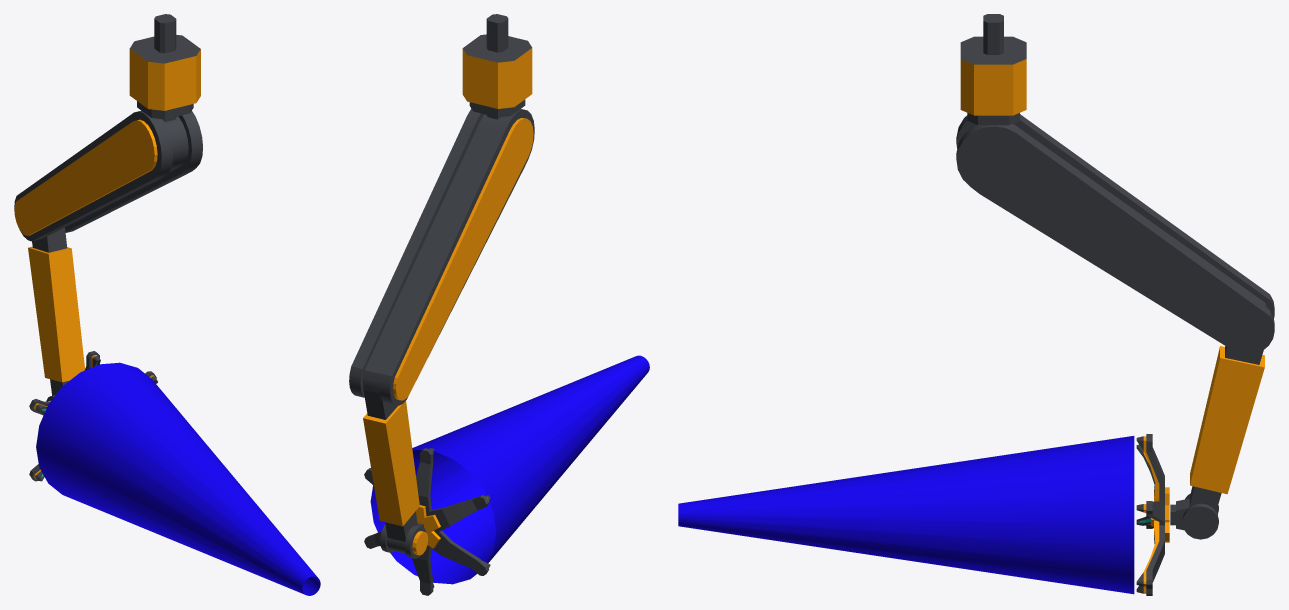
File: SM_AircraftLoaderRollerBar.FBX
3 views of the same model, side by side, from view 1: azimuth 30°, elevation 25°; view 2: azimuth 150°, elevation 25°; view 3: azimuth 270°, elevation 25° (orthographic). The views are drawn at different scales.
Visible parts, largest first — view 1: Clasp; view 2: Clasp; view 3: Clasp.
Part boxes in pixels (<box>): Clasp: <box>14,14,320,595</box>; Clasp: <box>349,14,649,595</box>; Clasp: <box>678,14,1274,595</box>.
Size of the model in its own units: 22.82 by 90.79 by 85.2.
